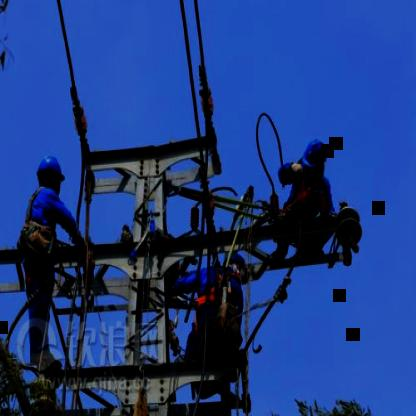helmet: (36, 152, 64, 194), (302, 134, 328, 176)
